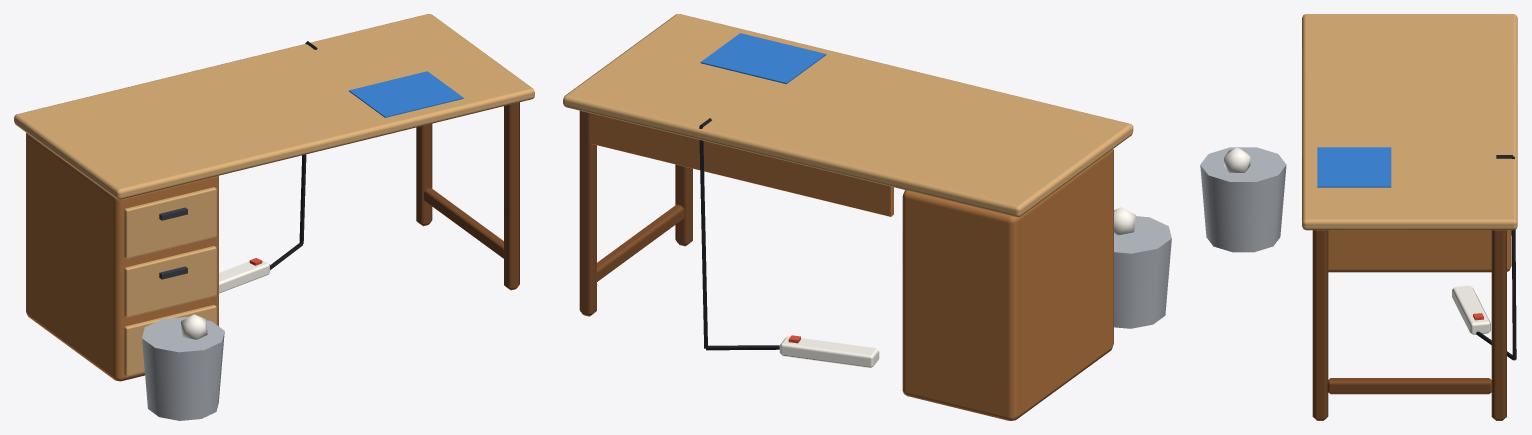
Rendered from station_processing_basis.glb.
3 renders of one model, left to right at view 1: azimuth 30°, elevation 25°; view 2: azimuth 150°, elevation 25°; view 3: azimuth 270°, elevation 25°, orthographic. The views are drawn at different scales.
Visible parts, largest first — view 1: station_processing_basis; view 2: station_processing_basis; view 3: station_processing_basis.
Boxes of the visible parts, box(x1,y1,x2,y2) form: station_processing_basis: box(14, 14, 534, 420); station_processing_basis: box(563, 14, 1171, 420); station_processing_basis: box(1200, 14, 1517, 420).
Size of the model in its own units: 1.6 by 0.751 by 1.03.
